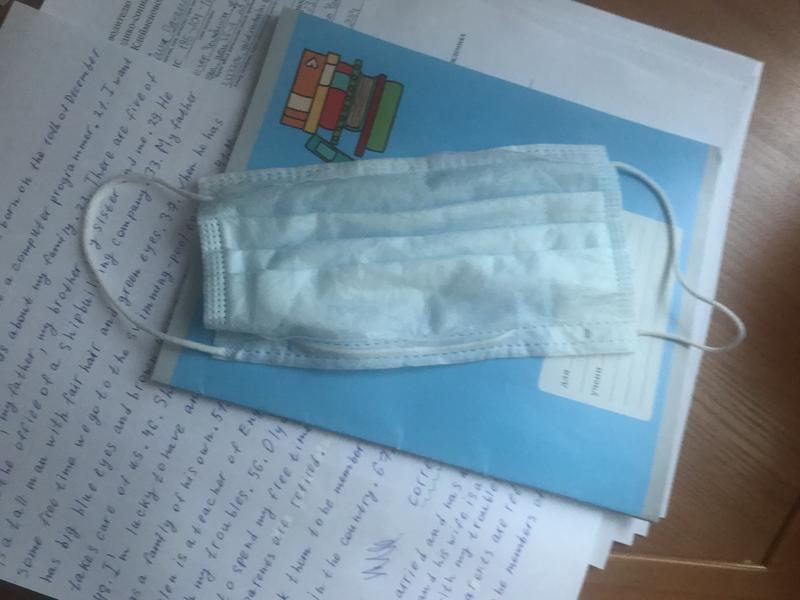medical_mask: (82, 142, 747, 365)
